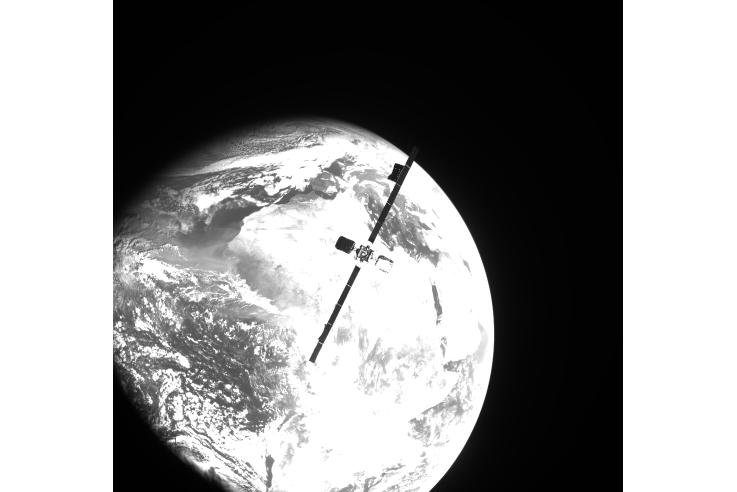antenna: (374, 255, 396, 275), (334, 235, 357, 254)
body: (355, 244, 374, 263)
solar: (307, 263, 362, 366), (367, 145, 420, 245)
thruster: (361, 250, 367, 256)
